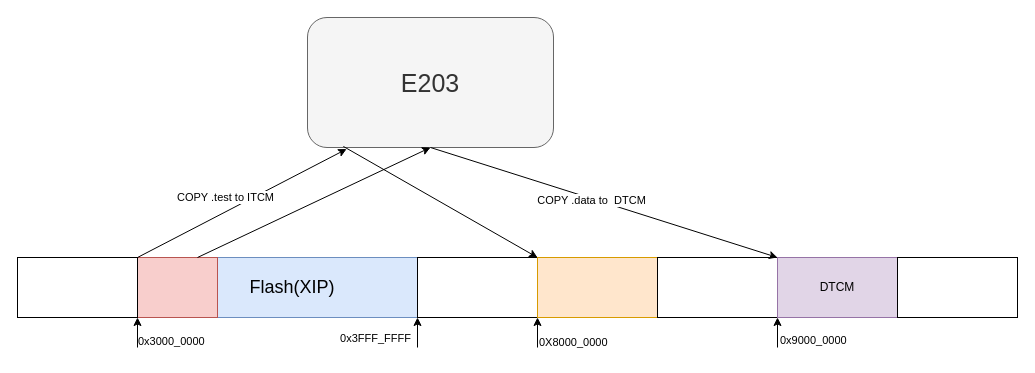
The diagram is 1035 pixels wide and 373 high, and some of its shapes have lost their labels. Each missing label, with the centre of its shape:
APP: [177,287]
ITCM: [597,287]
